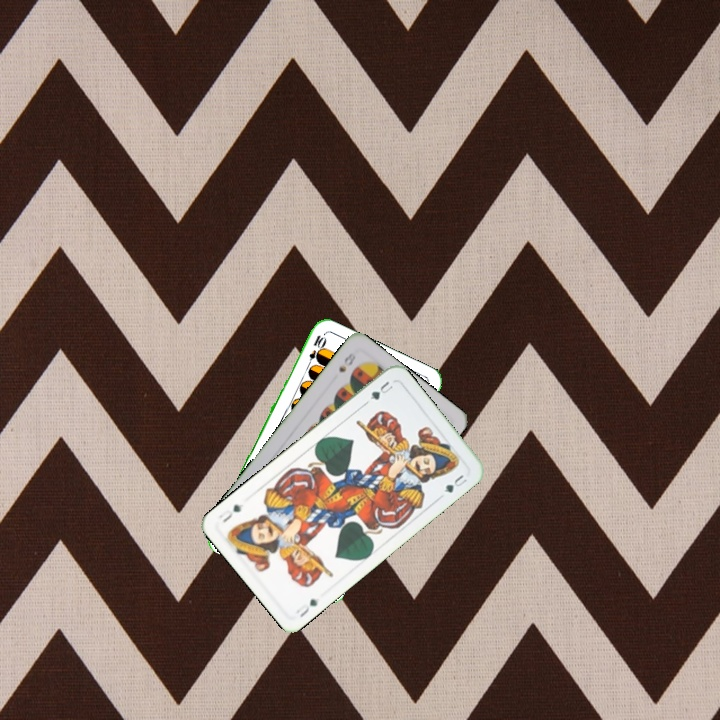E10: (303, 331, 327, 370)
GU: (366, 377, 396, 403), (292, 595, 320, 620)
S8: (334, 348, 358, 375)
